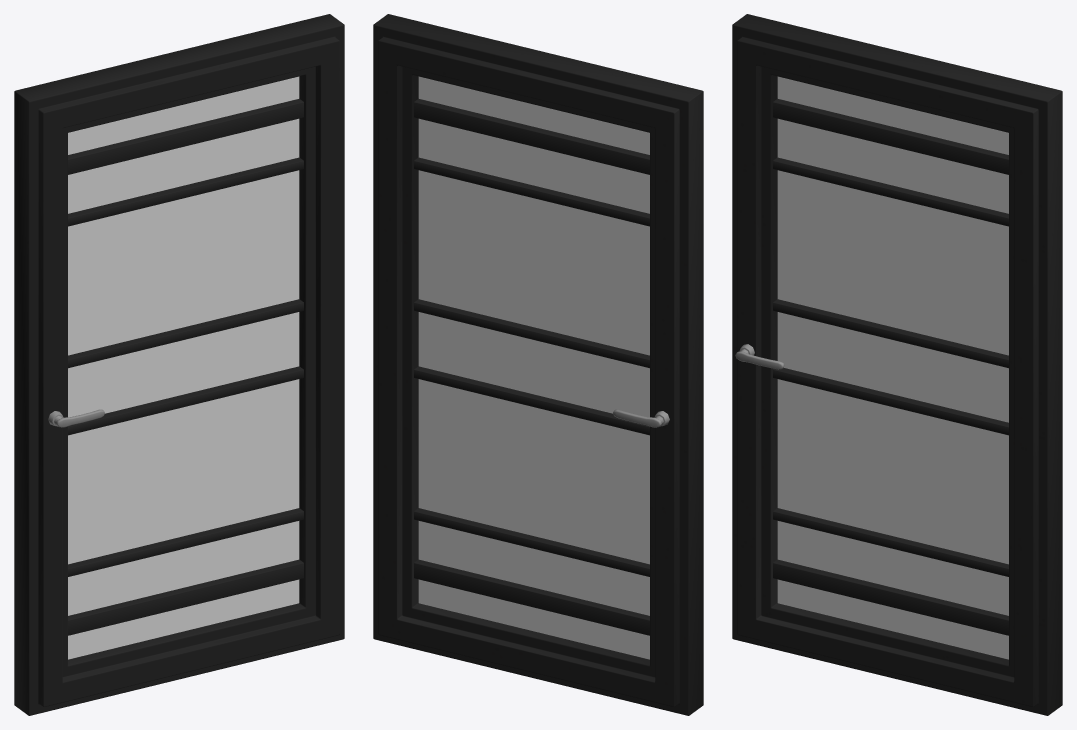
File: Door_B.fbx
3 views of the same model, side by side, from view 1: azimuth 30°, elevation 25°; view 2: azimuth 150°, elevation 25°; view 3: azimuth 330°, elevation 25° (orthographic).
Parts seen in each view (by area): view 1: Door_B; view 2: Door_B; view 3: Door_B.
Boxes of the visible parts, x1,y1,x2,y2 form: Door_B: [14, 14, 344, 715]; Door_B: [373, 14, 703, 715]; Door_B: [732, 14, 1062, 715].
Size of the model in its own units: 1.6 by 2.98 by 0.3735.
